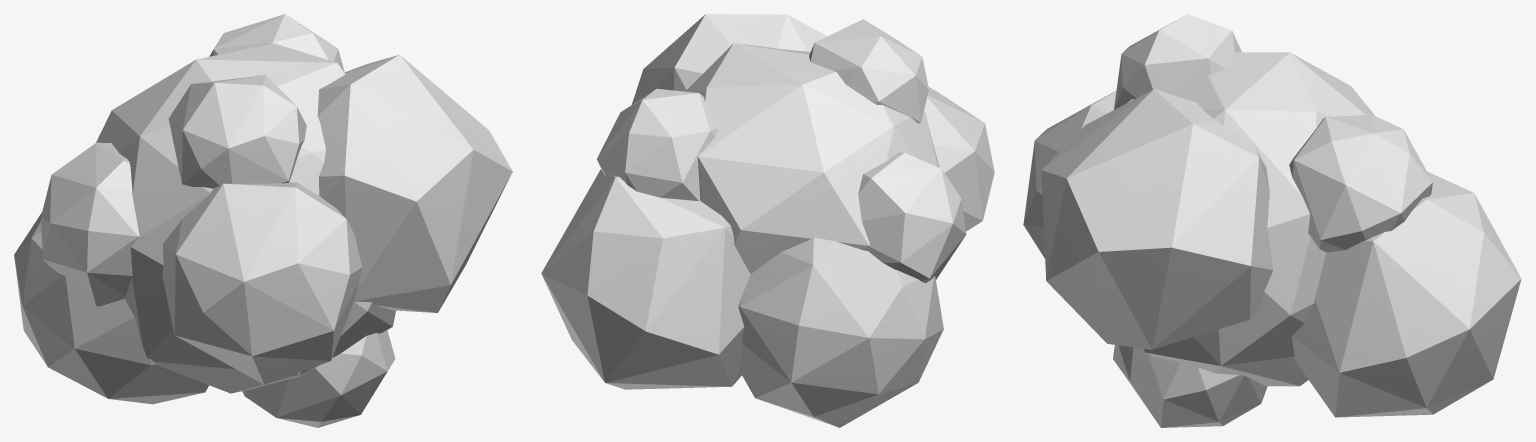
File: glue.glb
3 renders of one model, left to right at view 1: azimuth 30°, elevation 25°; view 2: azimuth 150°, elevation 25°; view 3: azimuth 270°, elevation 25°, orthographic. The views are drawn at different scales.
Visible parts, largest first — view 1: Icosphere.005; view 2: Icosphere.005; view 3: Icosphere.005.
Part boxes in pixels (box(x1,y1,x2,y2)): Icosphere.005: box(14, 14, 512, 427); Icosphere.005: box(541, 14, 994, 427); Icosphere.005: box(1023, 14, 1521, 427).
Bounding box in the file's own units: 2.52 × 2.26 × 2.84.
Materials: 1 (1 with a texture image).
